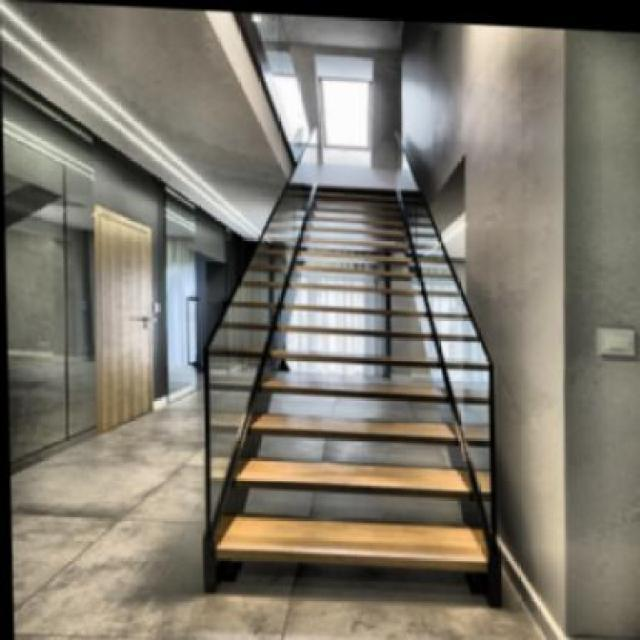stair: (208, 153, 494, 570)
